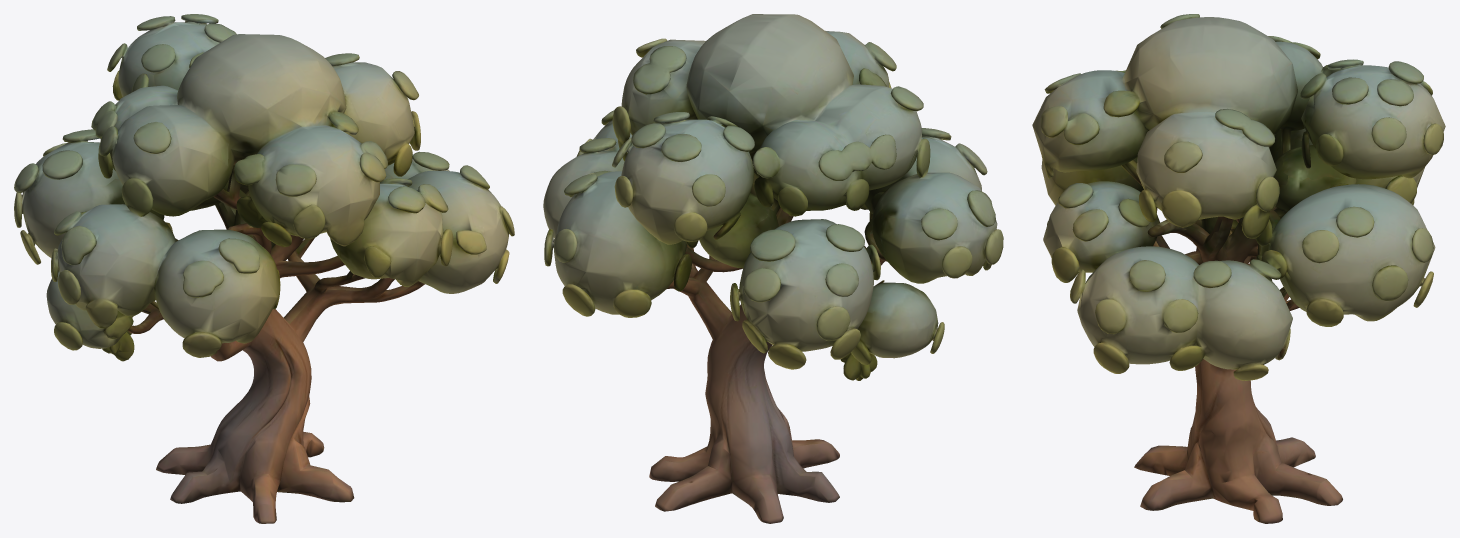
Rendered from grove-oak.glb.
The picture shows the model from 3 angles, left to right: view 1: azimuth 30°, elevation 25°; view 2: azimuth 150°, elevation 25°; view 3: azimuth 270°, elevation 25°; orthographic projection.
Visible parts, largest first — view 1: node_0; view 2: node_0; view 3: node_0.
Part boxes in pixels (x1,y1,x2,y2): node_0: [14, 14, 514, 523]; node_0: [543, 14, 1003, 523]; node_0: [1032, 14, 1445, 523].
Size of the model in its own units: 1.07 by 1.09 by 0.8948.
1 material, 1 textured.
